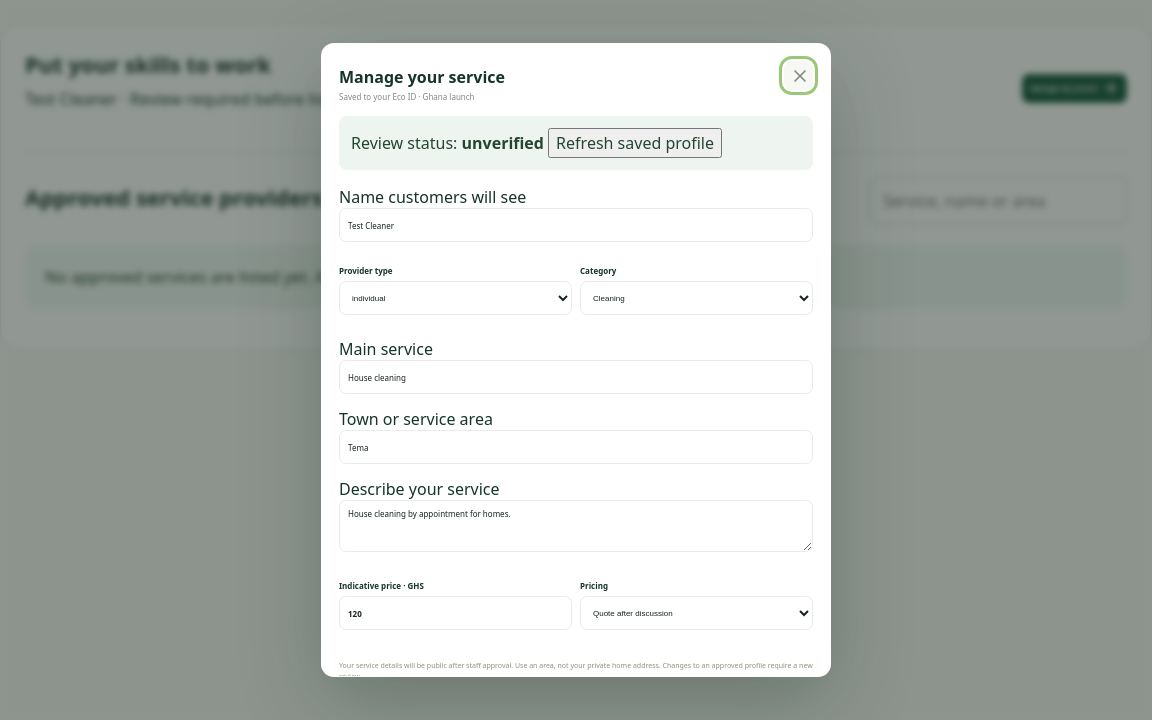
provider onboarding › requires edited service details to be saved before requesting review
Step 1. Replace the text in the field labelled "Town or service area" with "Tema Community 1" → (576, 447), box [339, 430, 813, 464]
(page scrolled)
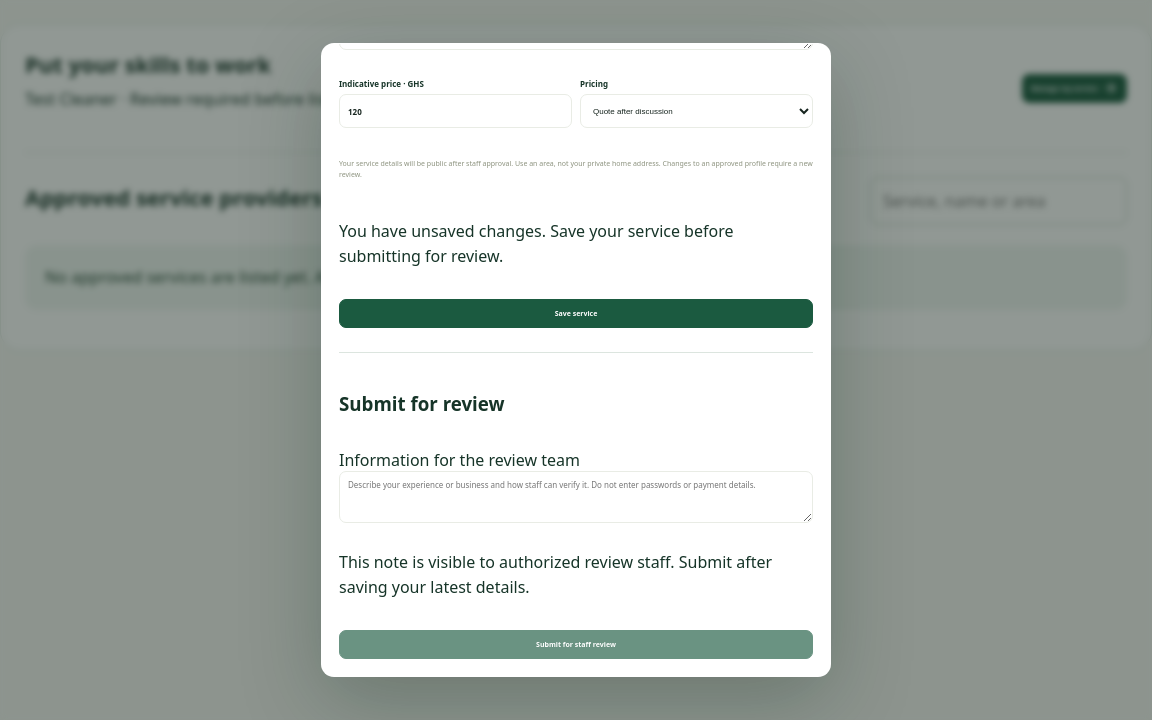
Step 2. Replace the text in the text box labelled "Information for the review team" with "Review the updated service area." → (576, 497), box [339, 471, 813, 523]
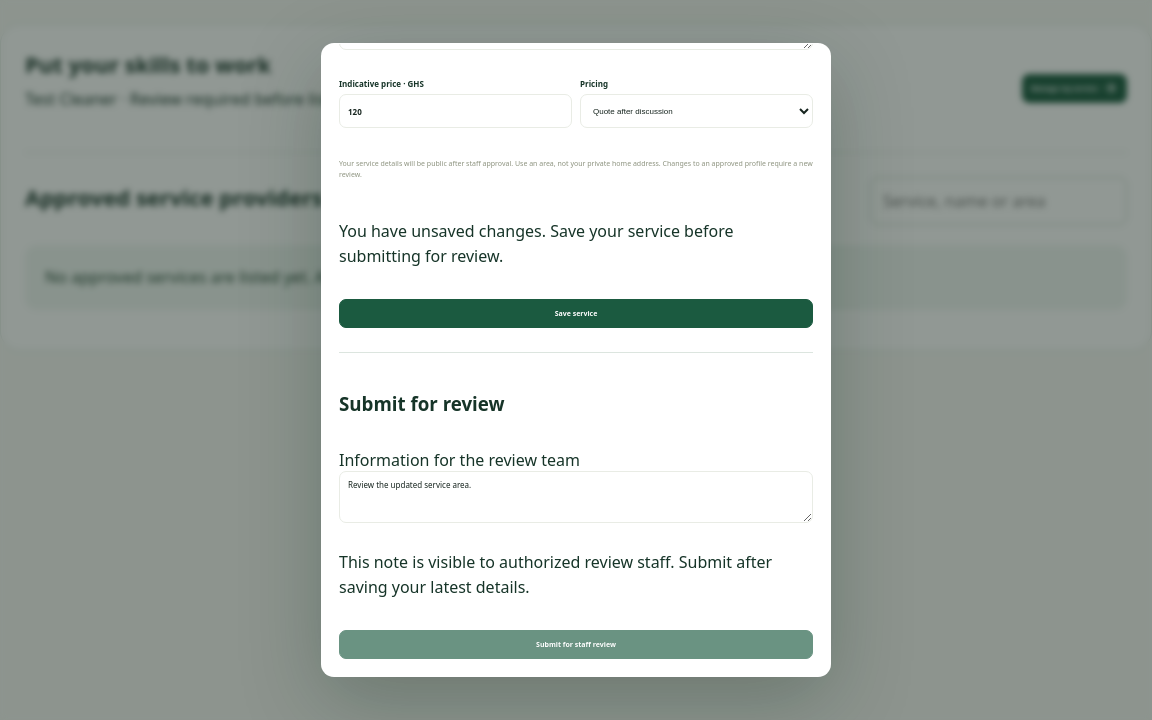
Check: the button "Submit for staff review" is disabled, box [339, 630, 813, 659]
Note: Submitting the form directly must also preserve the saved-profile boundary.
Step 3. Submit the form named "Submit for staff review", box [339, 352, 813, 659]
Step 4. Click the button "Save service" → (576, 313), box [339, 299, 813, 328]
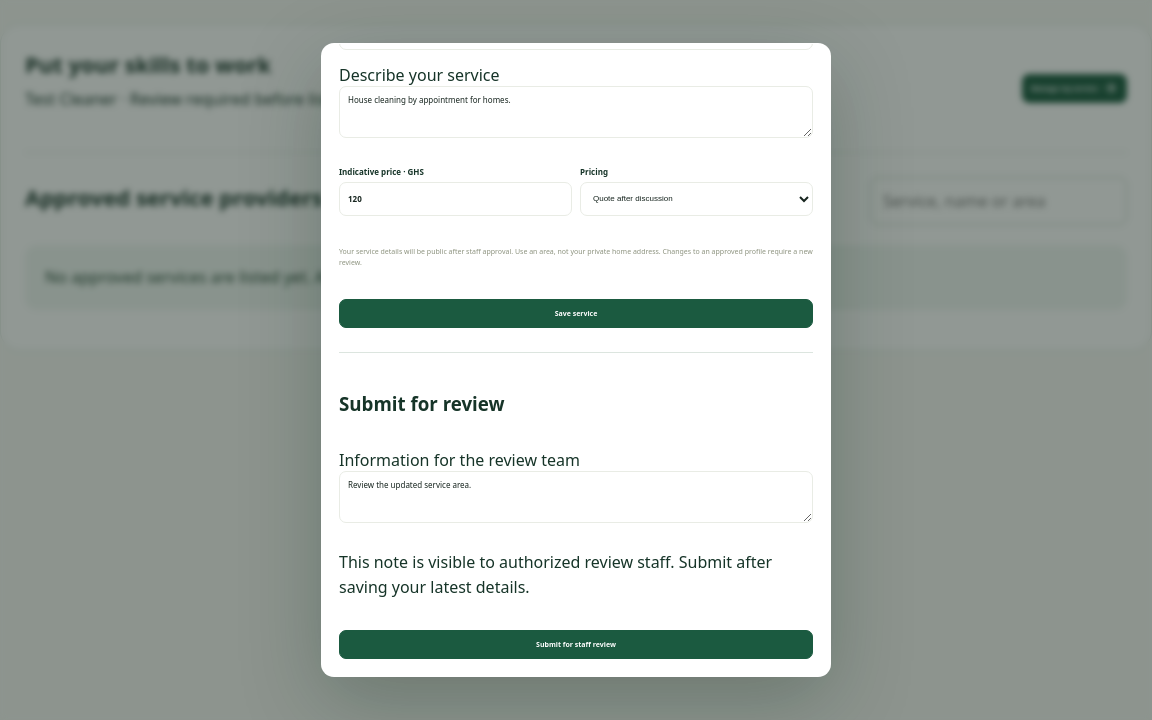
Check: the button "Submit for staff review" is enabled
Step 5. Click the button "Submit for staff review" → (576, 644), box [339, 630, 813, 659]
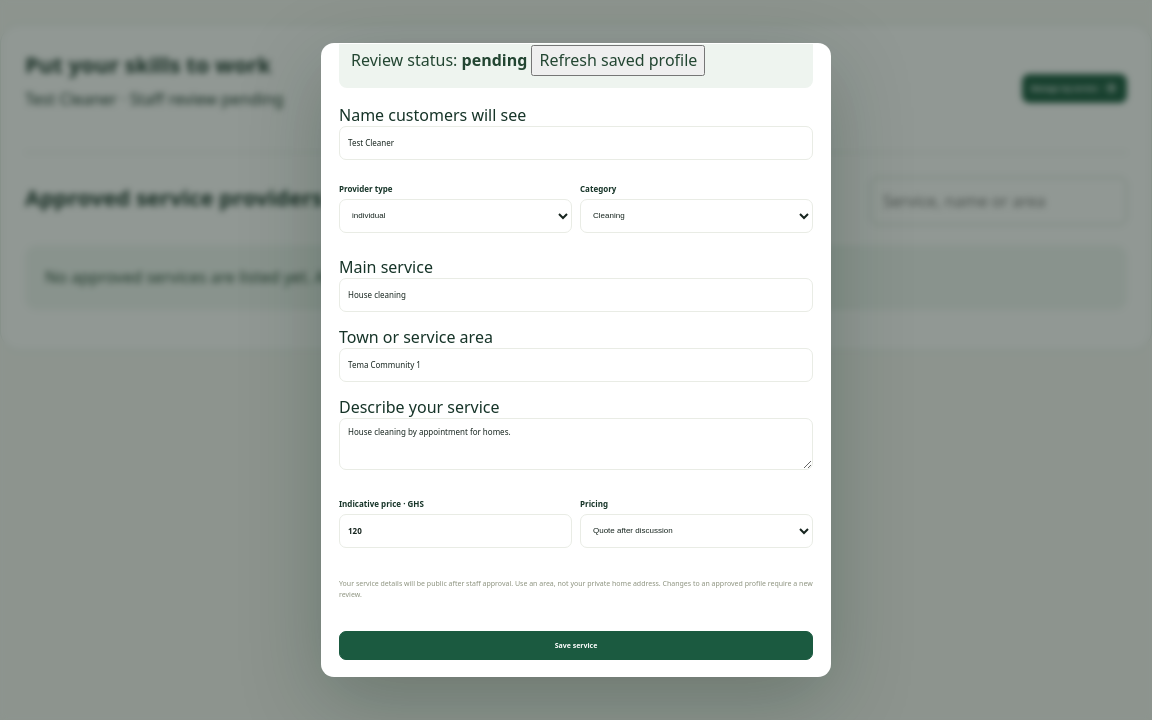
Check: the text "pending" is shown, box [462, 49, 527, 71]
